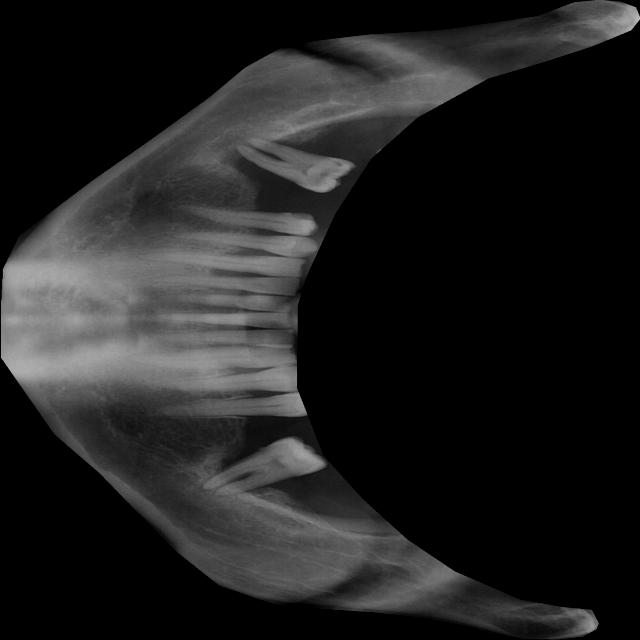mandibula: (0, 0, 640, 640)
